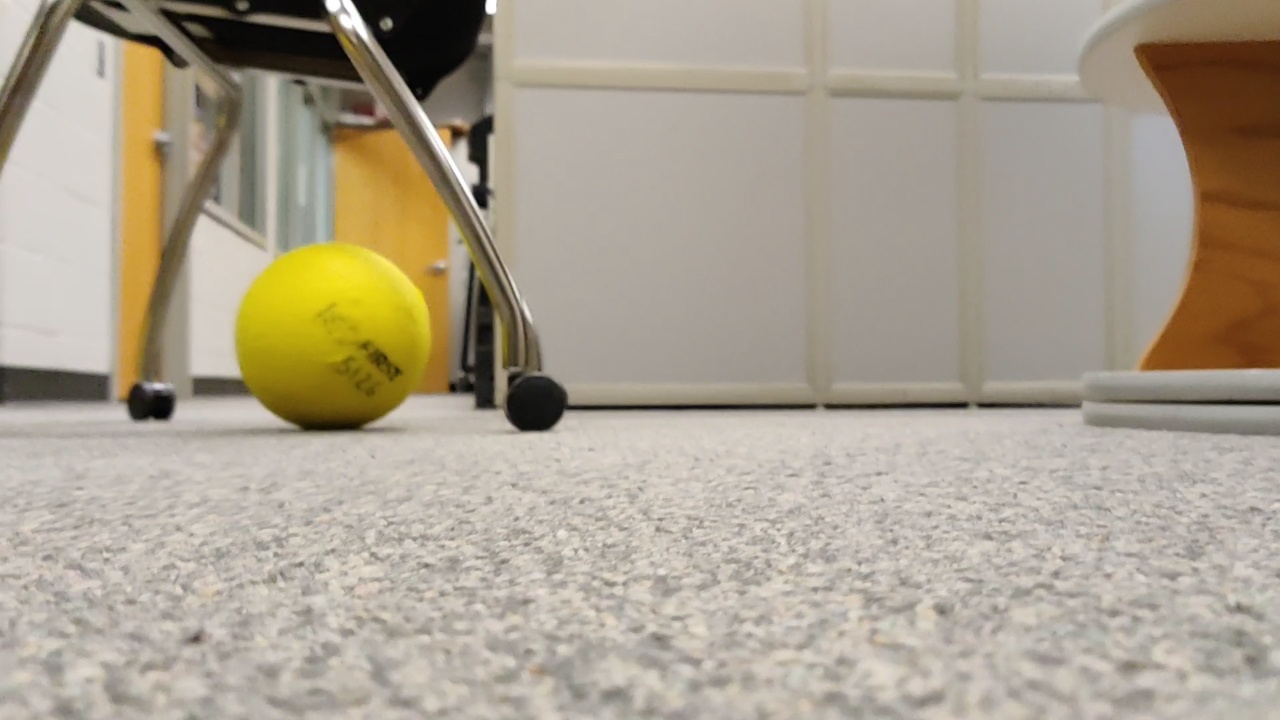Ball: (239, 240, 442, 434)
